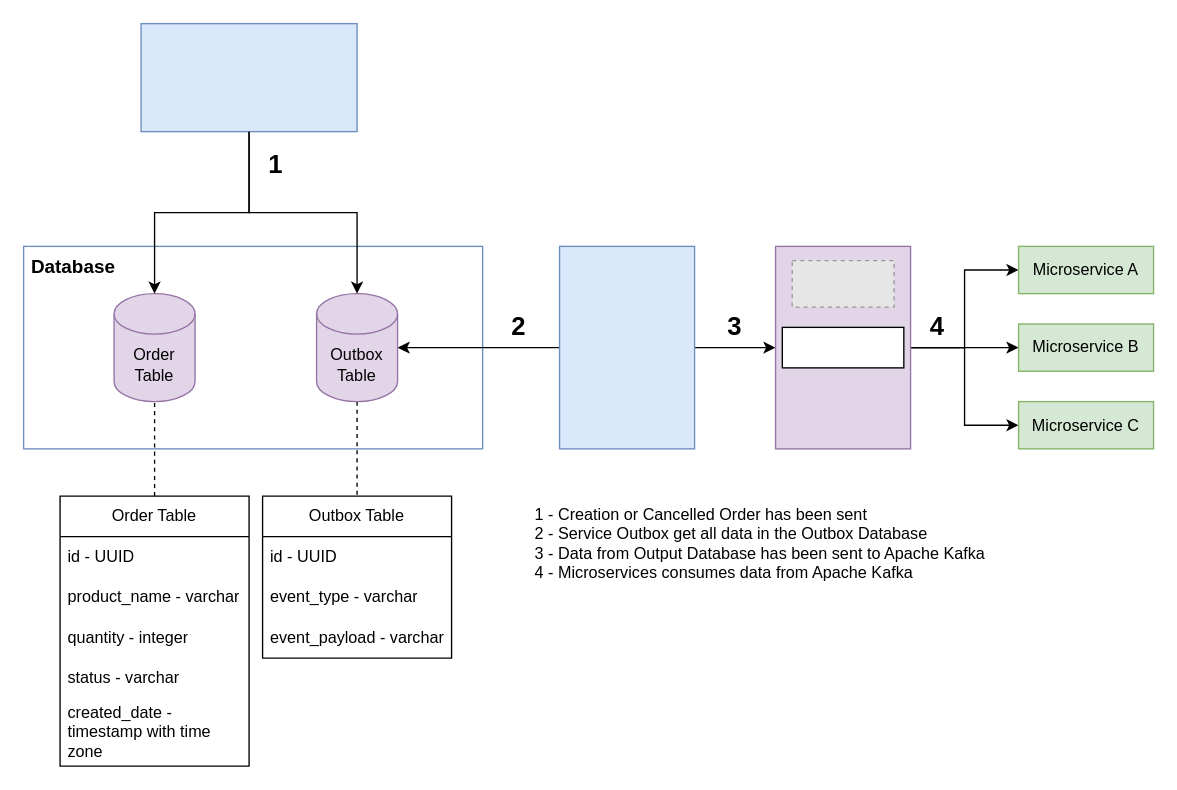
Some shapes in this 1177 by 790 pixel diagram are drawn without their labels. Grey dashed boxes stand in for pictures. The centre of each missing label's shape, as x and y in pixels:
Order Service: the point at 248,77
Outbox Service: the point at 626,347
Partition A: the point at 842,347
